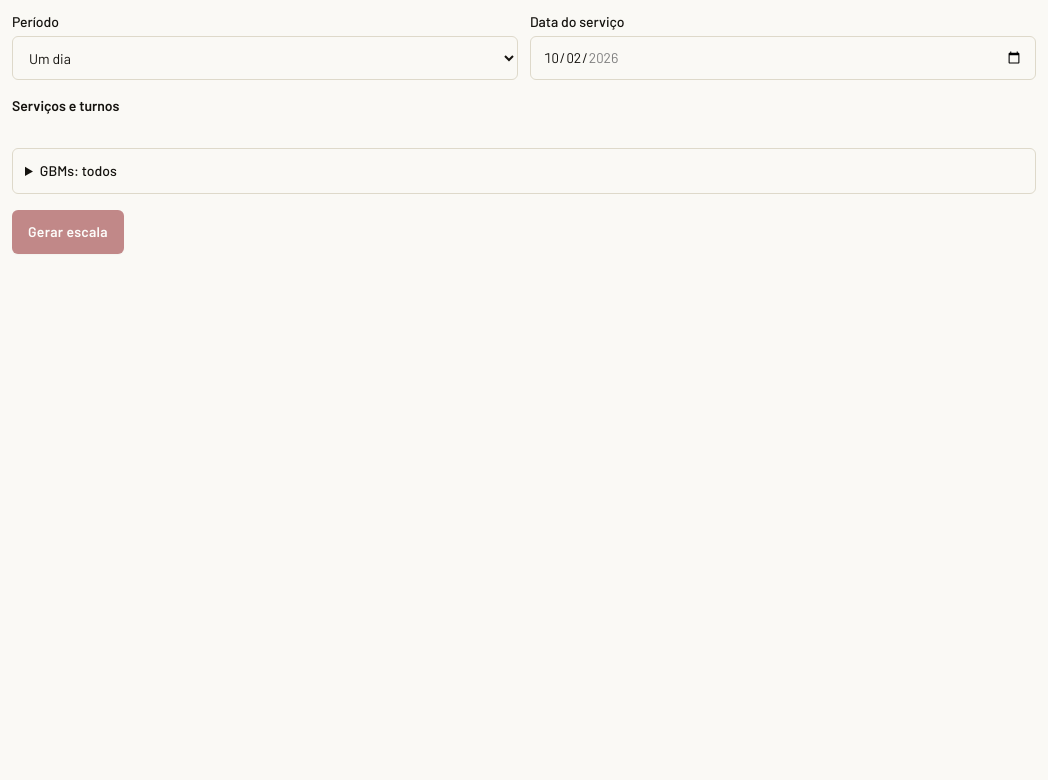
Test case: fluxo simples de geração › impede publicar quando ninguém tem o descanso necessário
Type "2026-09-26" into the date field labelled "Data do serviço" at (783, 58), box [530,36,1036,80]
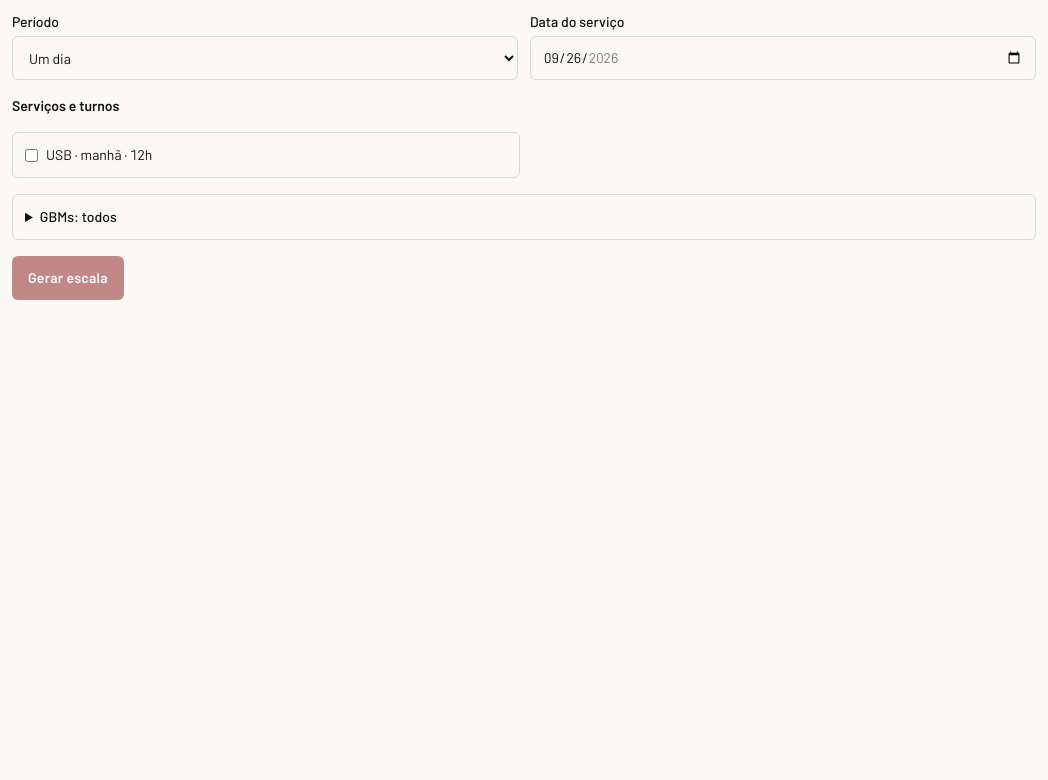
Click the checkbox labelled "USB · manhã · 12h" at (32, 155), box [25,148,38,162]
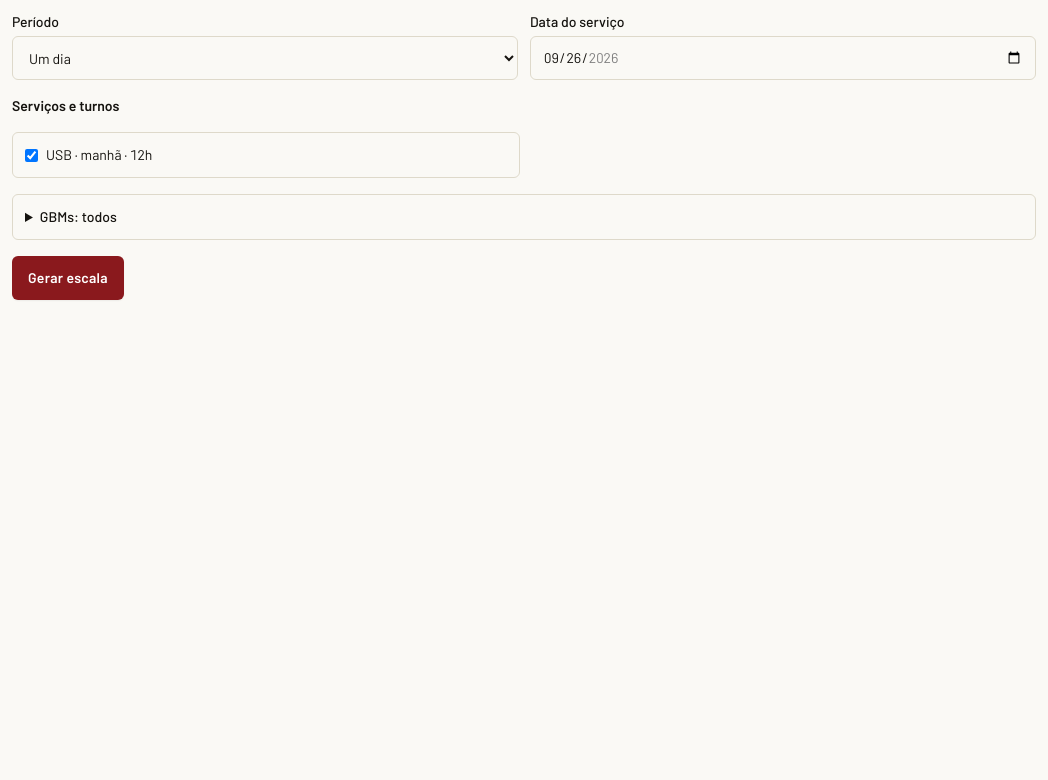
Click the button "Gerar escala" at (68, 278), box [12,256,124,300]
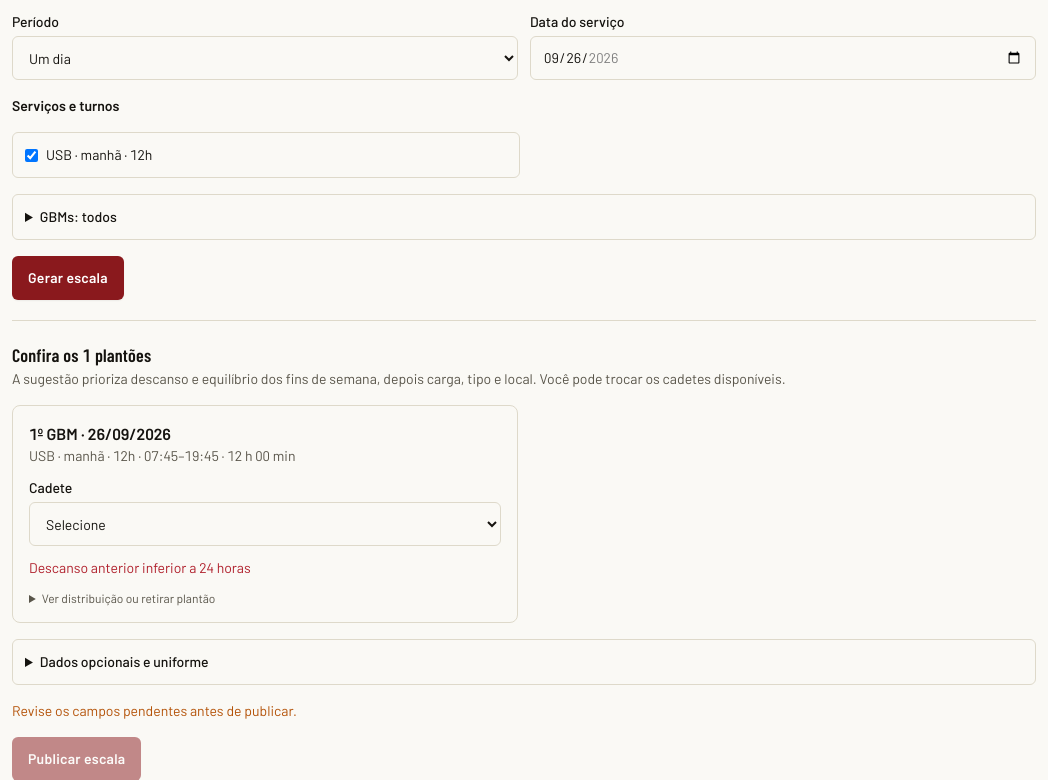
Result: the button "Publicar escala" is disabled at [12,737,141,779]
Result: the text "Descanso anterior inferior a 24 horas" is shown at [29,559,251,576]
